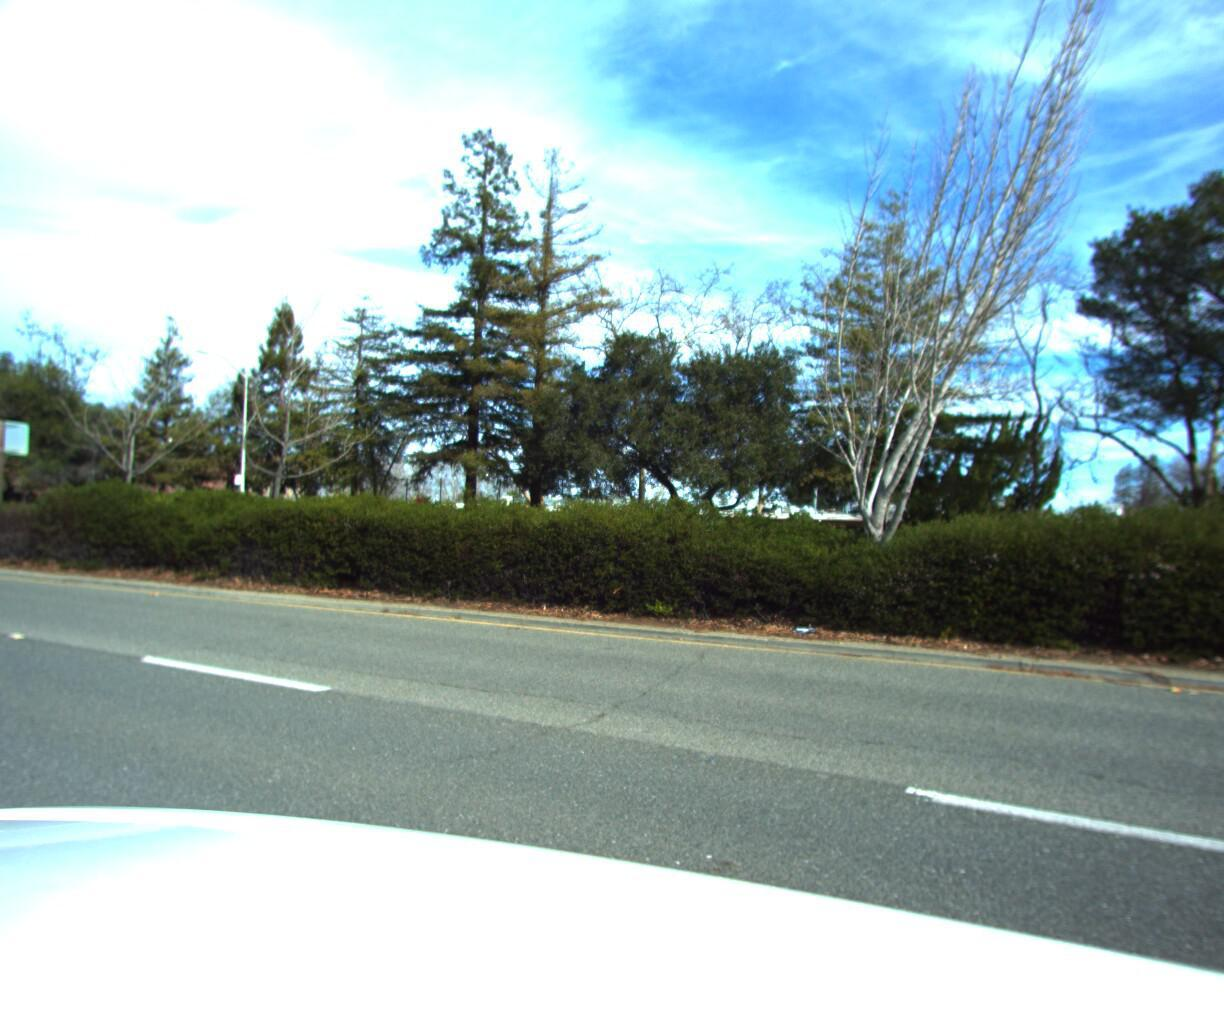car: (1217, 543, 1224, 633)
